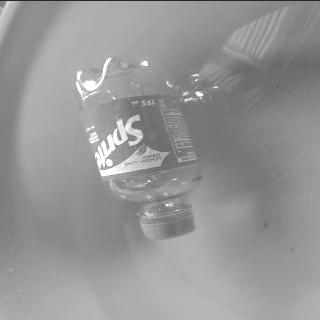bottle: (73, 55, 204, 238)
